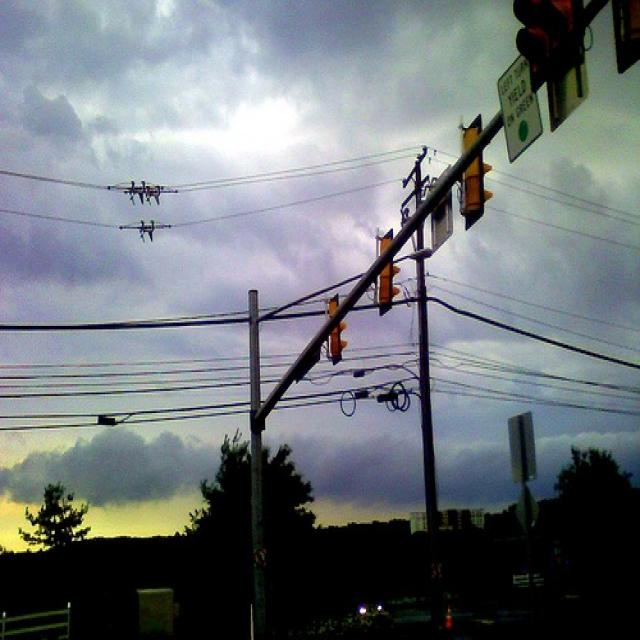pole: (242, 285, 270, 638)
